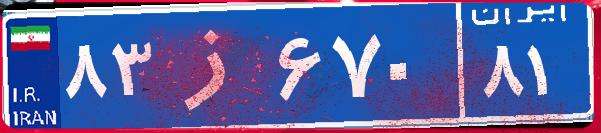0: (385, 28, 445, 110)
1: (525, 38, 570, 115)
3: (110, 28, 158, 105)
6: (273, 28, 330, 110)
7: (330, 28, 385, 110)
8: (57, 26, 110, 107), (475, 38, 525, 113)
ز: (158, 15, 273, 115)
